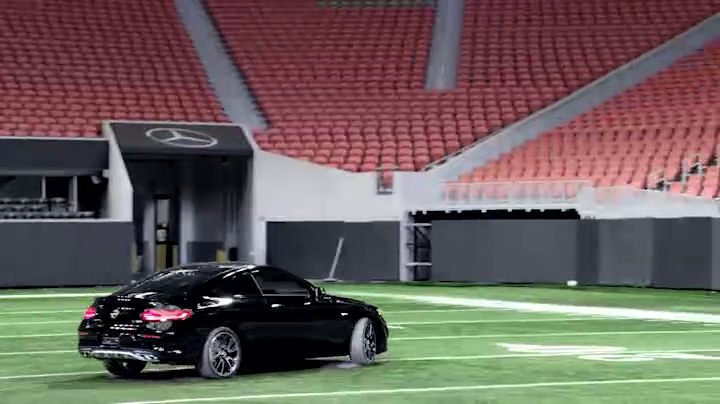amg: (81, 259, 390, 369)
